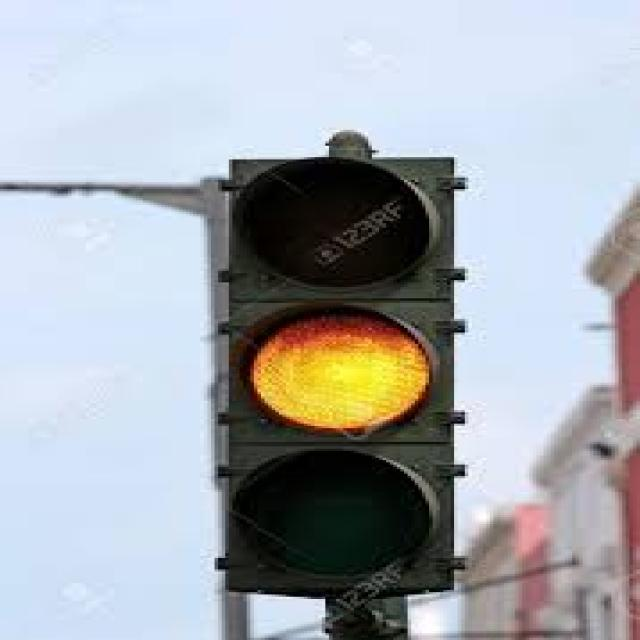yellow light: (208, 161, 459, 600)
